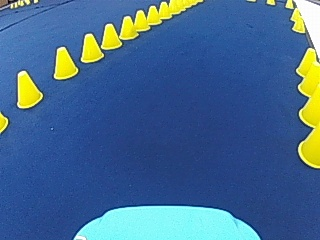cone: (14, 68, 43, 108), (297, 123, 318, 167), (298, 83, 319, 126), (52, 45, 78, 79), (297, 60, 320, 97), (79, 31, 103, 62), (295, 47, 317, 77), (100, 22, 121, 49), (119, 15, 137, 38), (132, 9, 149, 31), (291, 10, 304, 31), (146, 5, 160, 24), (158, 0, 170, 18)
